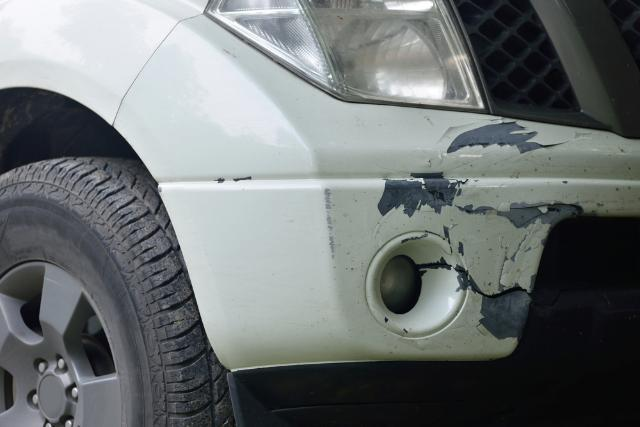crack: (416, 263, 527, 300)
scratch: (377, 118, 588, 293), (476, 293, 531, 343), (322, 187, 337, 265)
